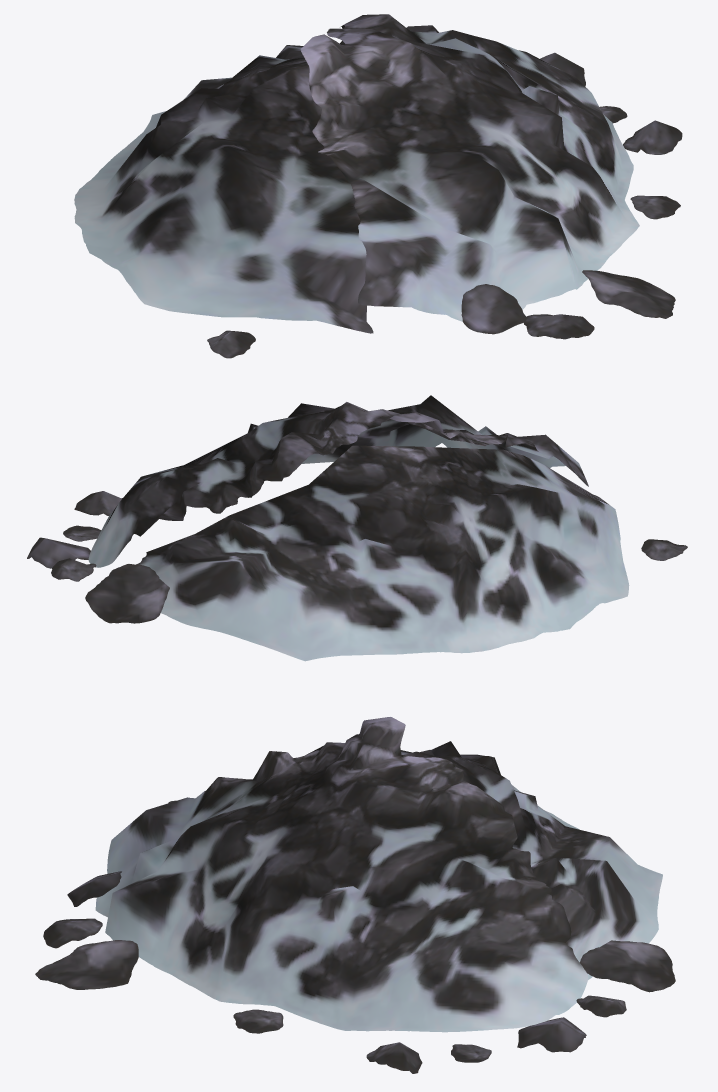
The model's file is rzjd_zawu_03.FBX.
3 views of the same model, one above another, from view 1: azimuth 30°, elevation 25°; view 2: azimuth 150°, elevation 25°; view 3: azimuth 270°, elevation 25° (orthographic). The views are drawn at different scales.
Parts seen in each view (by area): view 1: rzjd_zawu_03; view 2: rzjd_zawu_03; view 3: rzjd_zawu_03.
Part boxes in pixels (x1,y1,x2,y2): rzjd_zawu_03: (74,14,682,358); rzjd_zawu_03: (27,395,687,661); rzjd_zawu_03: (35,717,675,1073).
Size of the model in its own units: 561 by 555 by 162.
